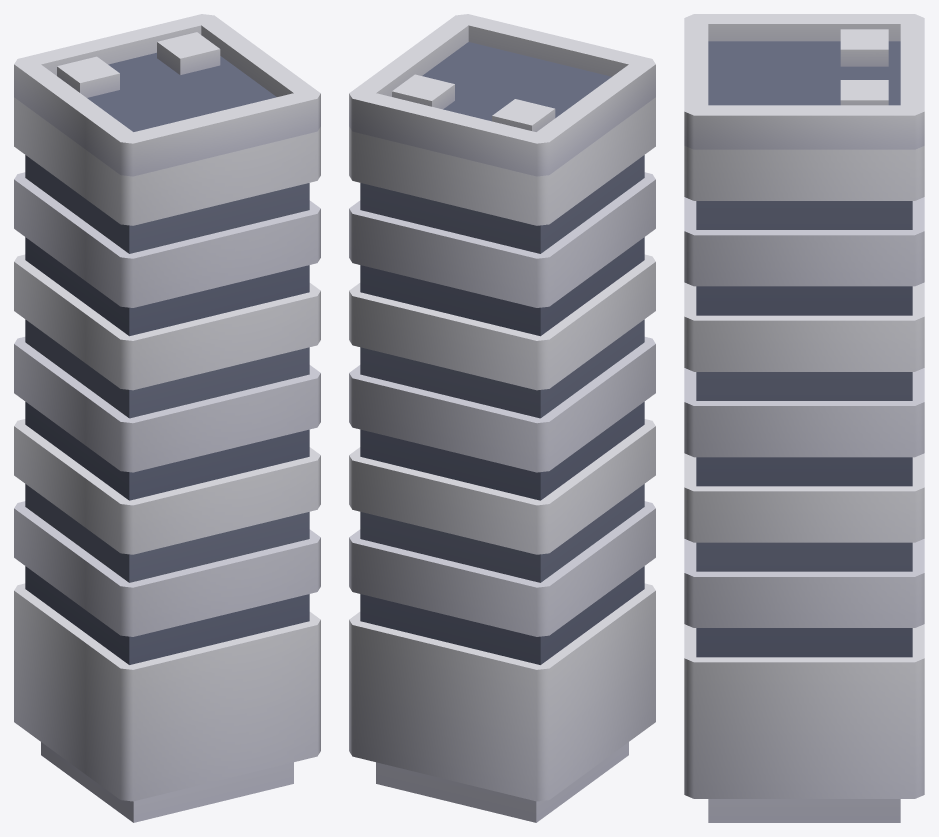
File: building-skyscraper-b_far.glb
3 views of the same model, side by side, from view 1: azimuth 30°, elevation 25°; view 2: azimuth 150°, elevation 25°; view 3: azimuth 270°, elevation 25° (orthographic). The views are drawn at different scales.
Parts seen in each view (by area): view 1: low-detail-building-h; view 2: low-detail-building-h; view 3: low-detail-building-h.
Part boxes in pixels (box(x1,y1,x2,y2)): low-detail-building-h: box(14, 14, 320, 822); low-detail-building-h: box(349, 14, 655, 822); low-detail-building-h: box(684, 14, 924, 822).
Bounding box in the file's own units: 1.36 × 4.48 × 1.36.
1 material, 1 textured.
